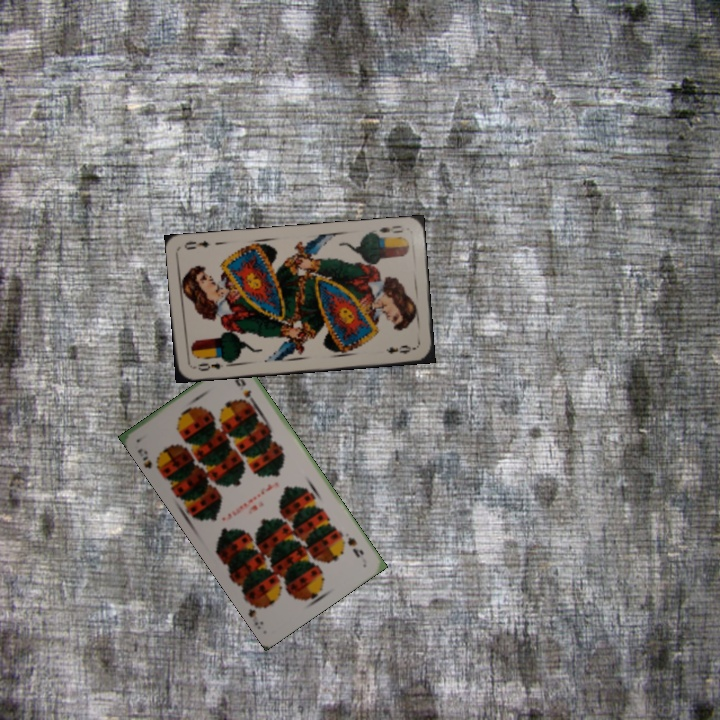EO: (189, 359, 226, 374), (375, 221, 405, 236)
S9: (133, 444, 163, 475), (343, 533, 366, 560)
